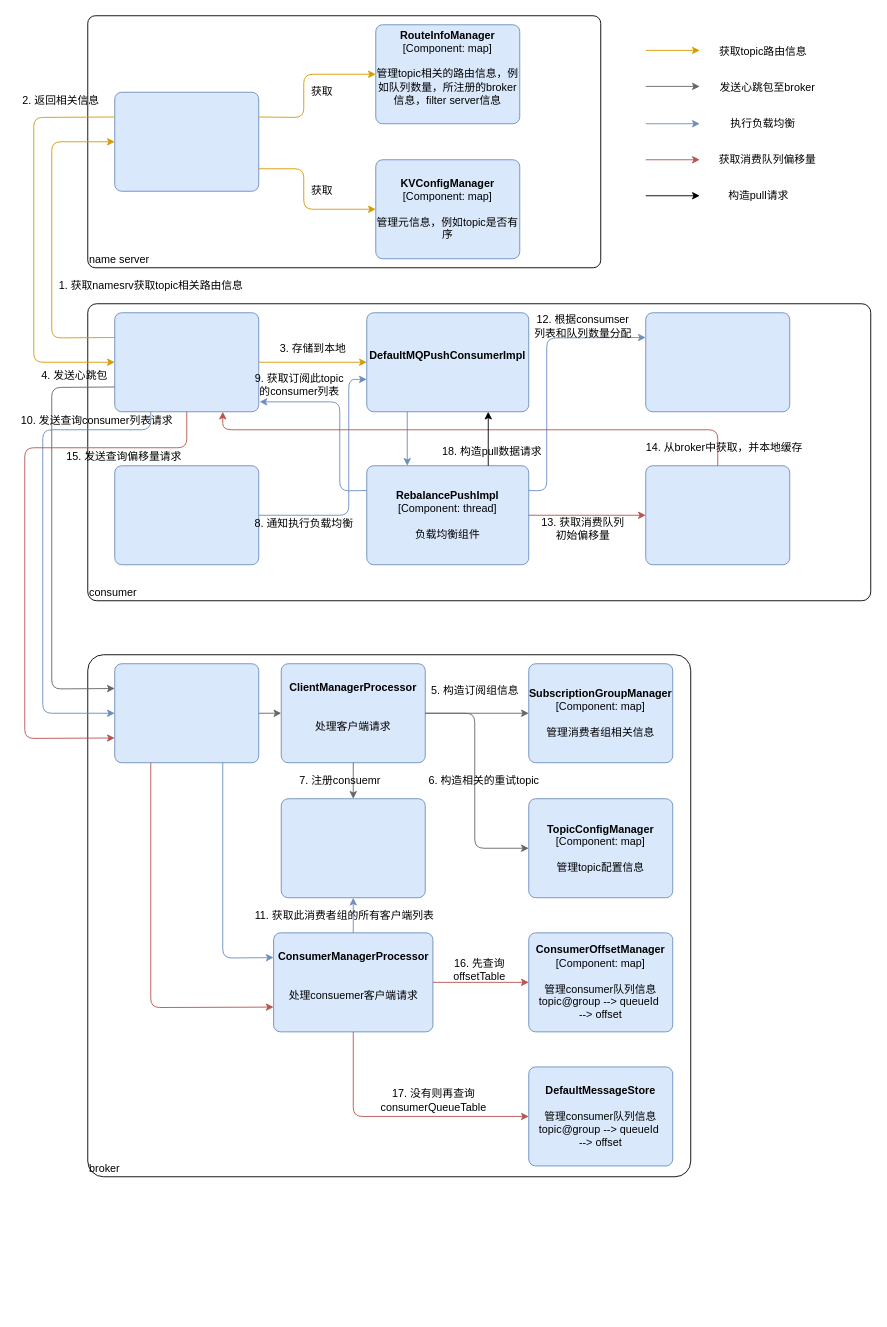
Image size: 887x1327. Some labels were removed from this diagram. The shapes that lost their labels are listed below. From the top down, each one's box as (x1, y1, x2, y2) in pixels, then its label:
(114, 91, 259, 191): RemotingServer [Component: netty-server ] port: 9876
(114, 312, 259, 412): MQClientInstance [Component: netty-client ]
(645, 312, 790, 412): AllocateMessage QueueStrategy 负载均衡策略
(114, 465, 259, 565): RebalanceService [Component: thread ] 通知consuemr进行负载均衡
(645, 465, 790, 565): RemoteBrokerOffsetStore 记录消费队列偏移量 从远程broker中获取
(114, 663, 259, 763): RemotingServer [Component: netty-server ] port: 10911
(280, 798, 425, 898): ConsumerManager [Component: map ] 管理consumer配置信息
